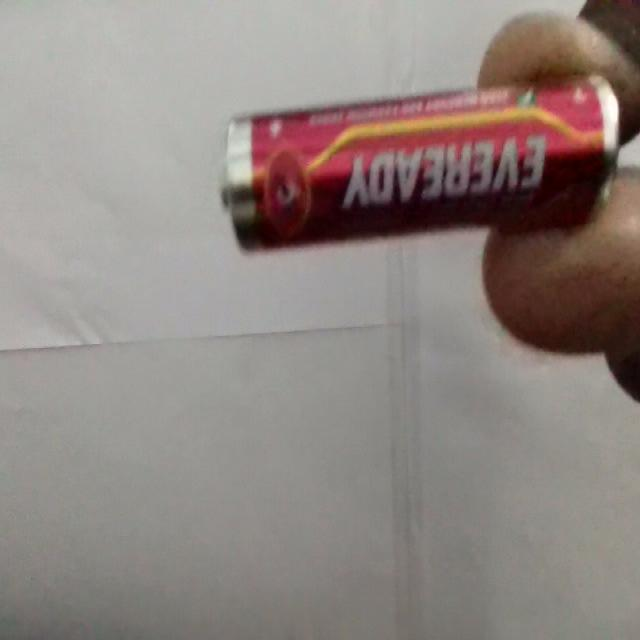battery: (221, 79, 620, 248)
